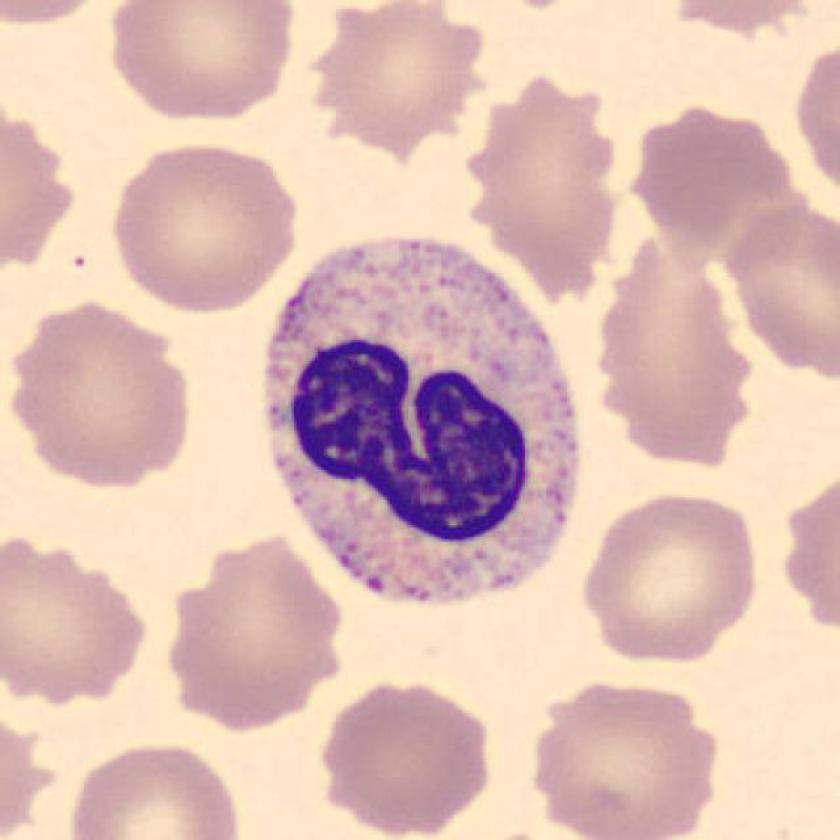neutrophil: (262, 236, 581, 603)
